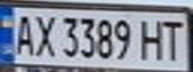3: (57, 12, 81, 59), (75, 15, 96, 60)
8: (93, 15, 115, 60)
9: (112, 16, 136, 61)
A: (9, 10, 36, 57)
H: (136, 16, 166, 61)
T: (157, 16, 187, 61)
X: (30, 11, 57, 58)
